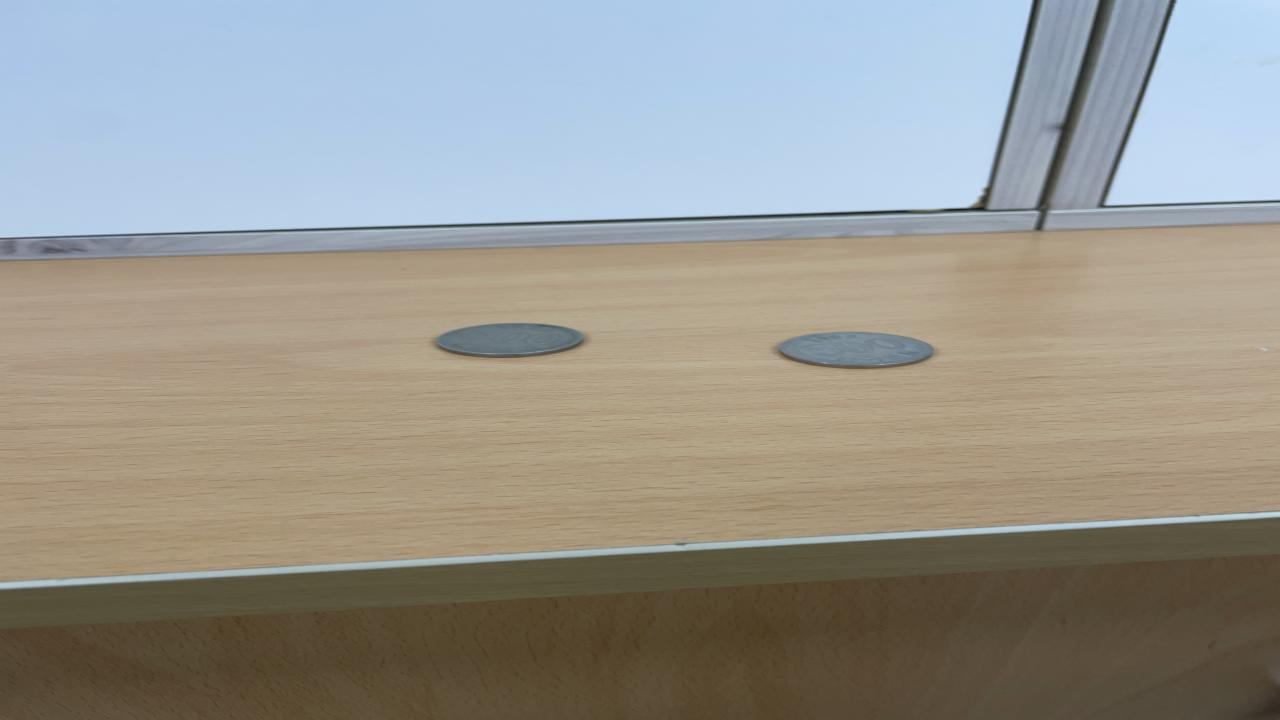coin: (772, 329, 938, 371), (430, 320, 590, 360)
